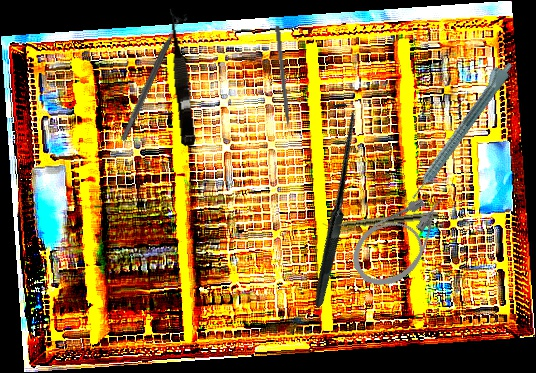Cannula: (341, 183, 466, 298)
Fixation Ring: (112, 7, 191, 145)
Handpiece: (402, 55, 516, 203), (321, 209, 439, 232)
Hook Surgical: (225, 99, 435, 309)
Micro Scissor: (165, 9, 199, 148)
Pusher: (273, 26, 293, 142)
